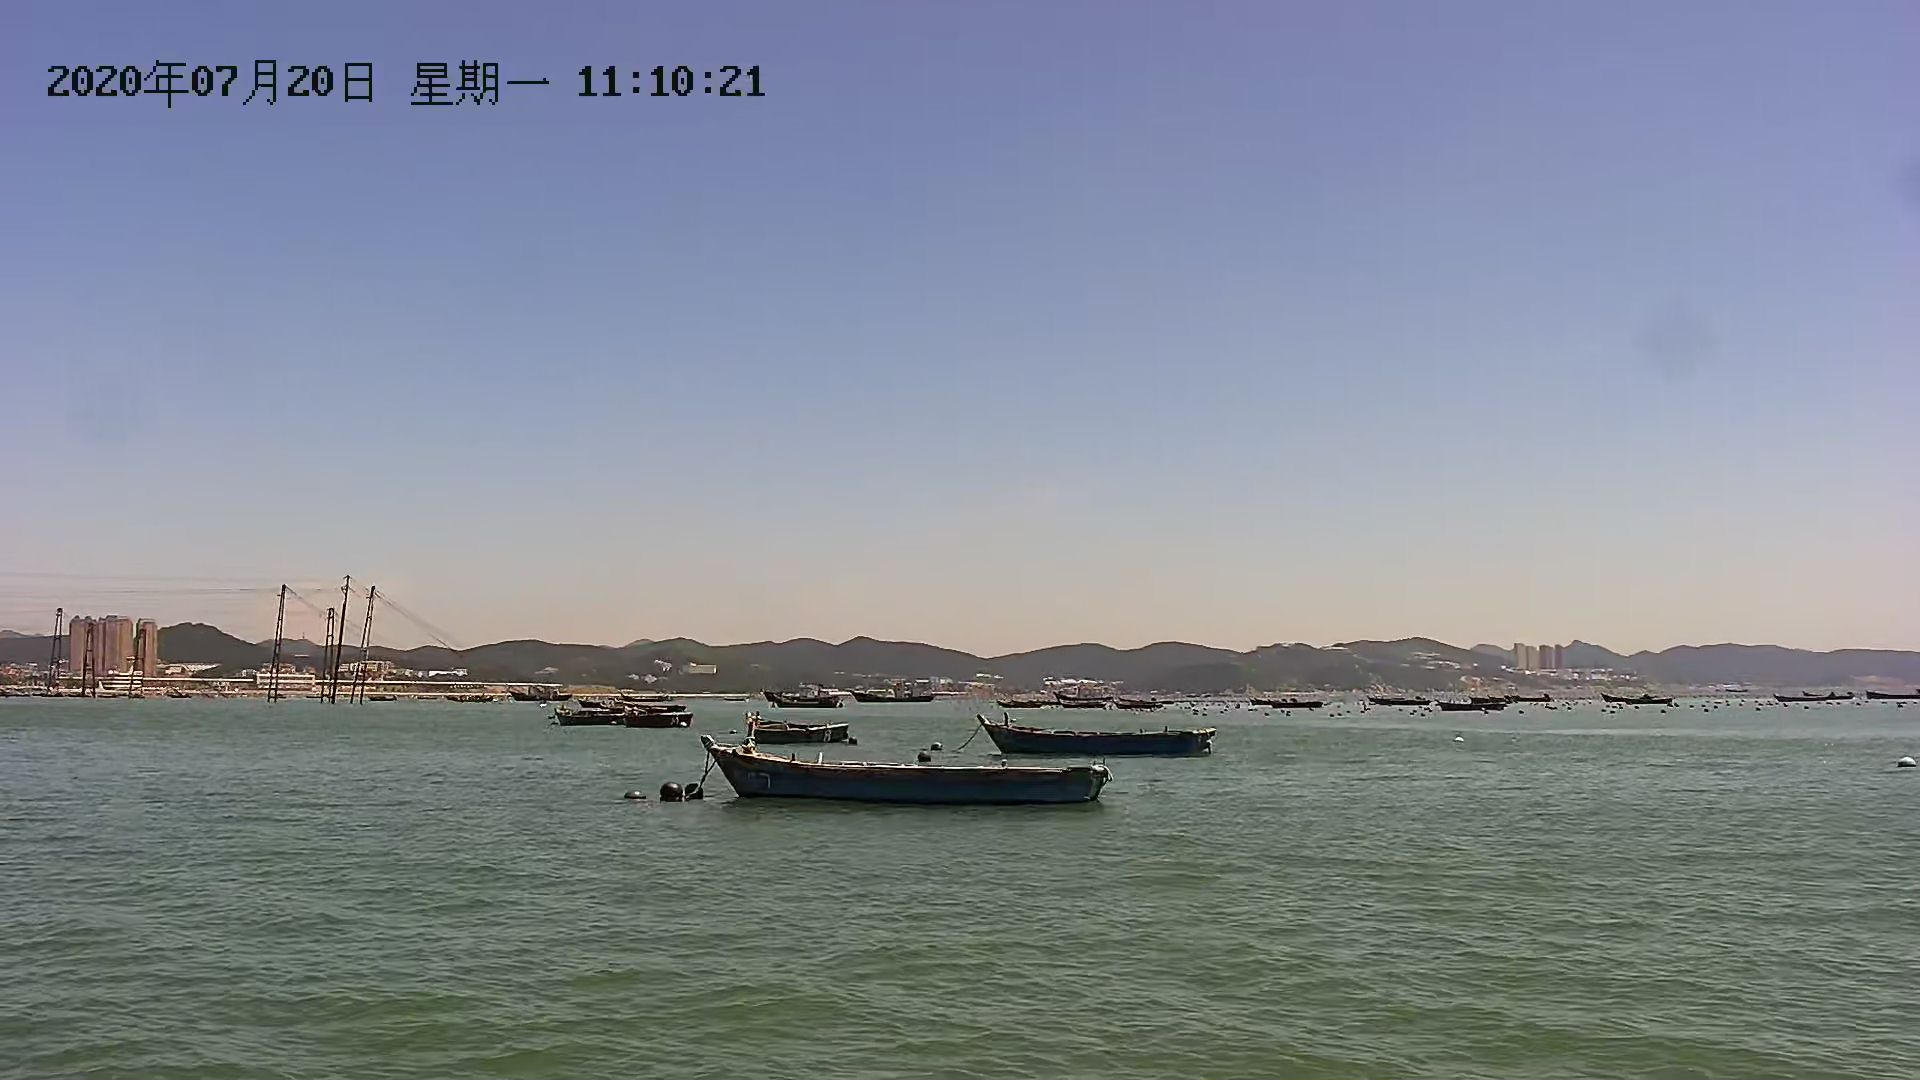ball: (1895, 754, 1920, 765)
boat: (699, 731, 1105, 808), (977, 716, 1237, 765), (574, 695, 699, 731), (737, 716, 849, 752), (773, 687, 844, 709)
